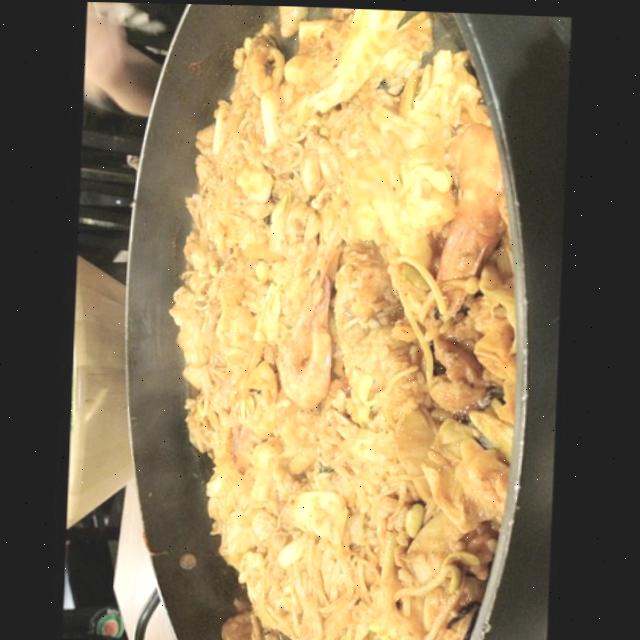鸡肉料理 含炸鸡: (55, 11, 588, 640)
